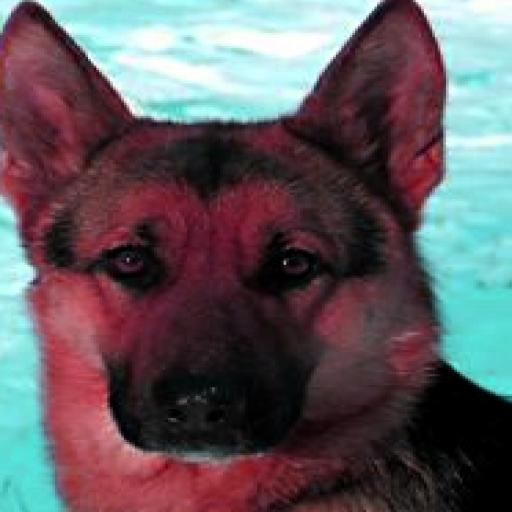dog_face: (0, 0, 427, 451)
